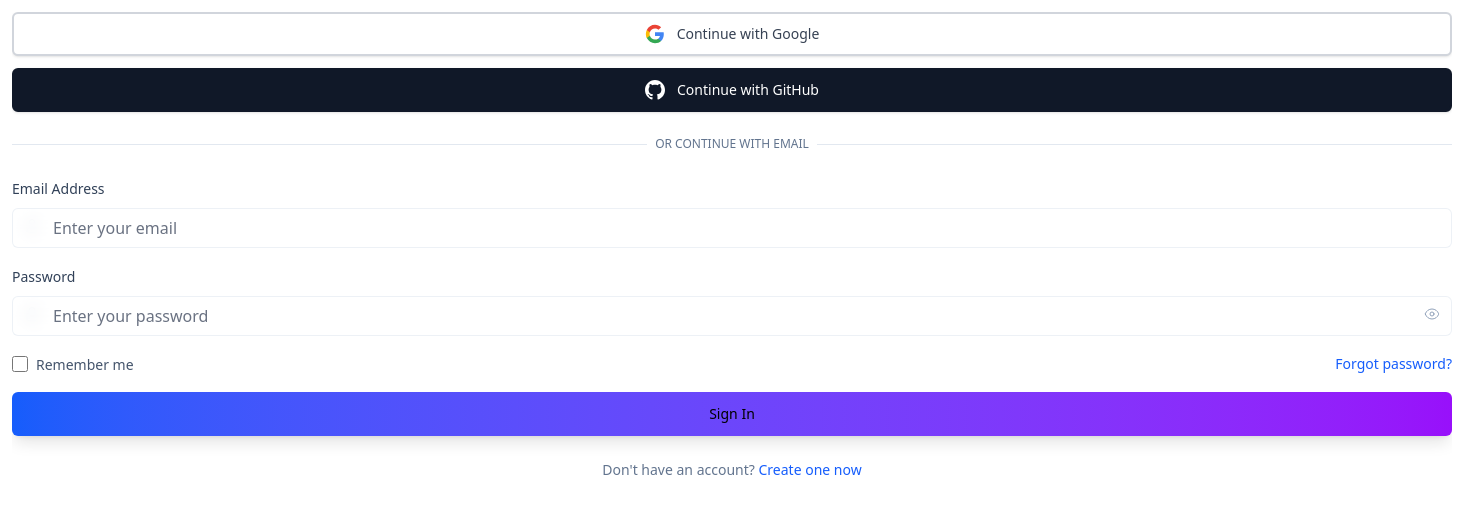
Test: LoginForm › Form Validation › shows error for empty email
Click the button "Sign In".
click(732, 414)  # box left=12, top=392, right=1452, bottom=436
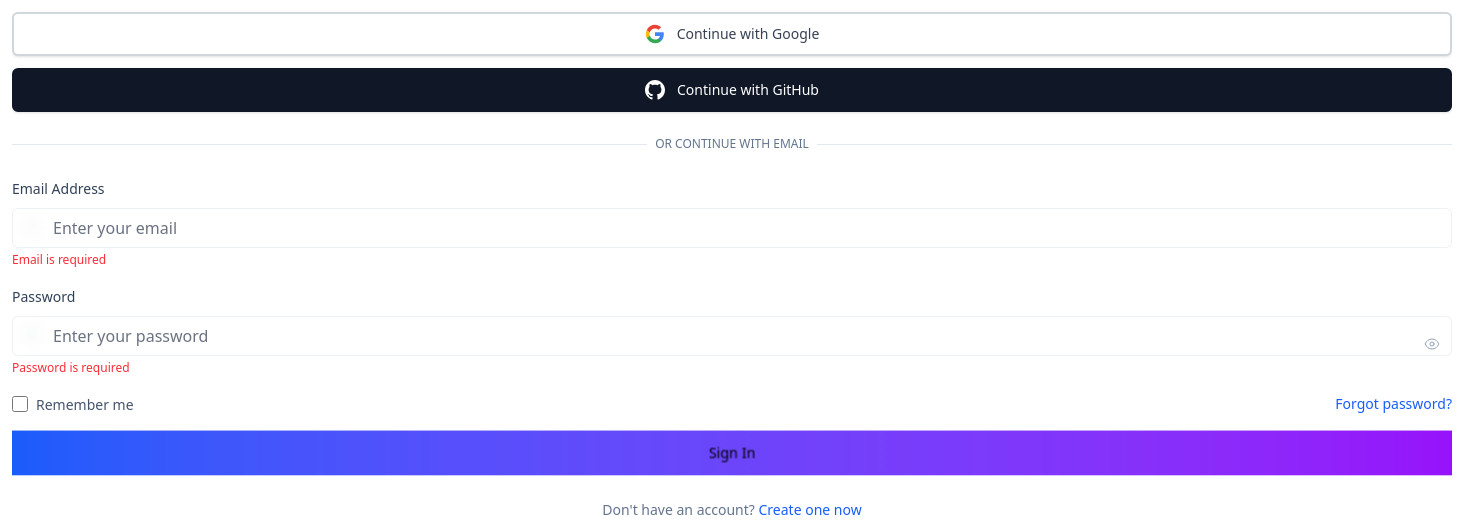
Result: the text "Email is required" is shown at left=12, top=251, right=106, bottom=268
